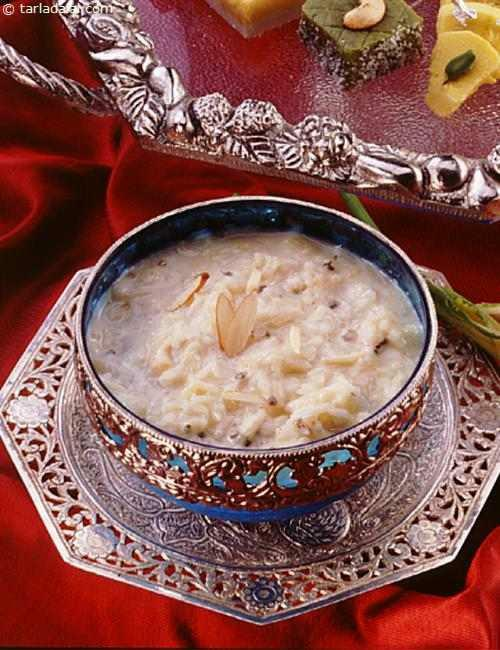Kheer: (89, 223, 430, 447)
